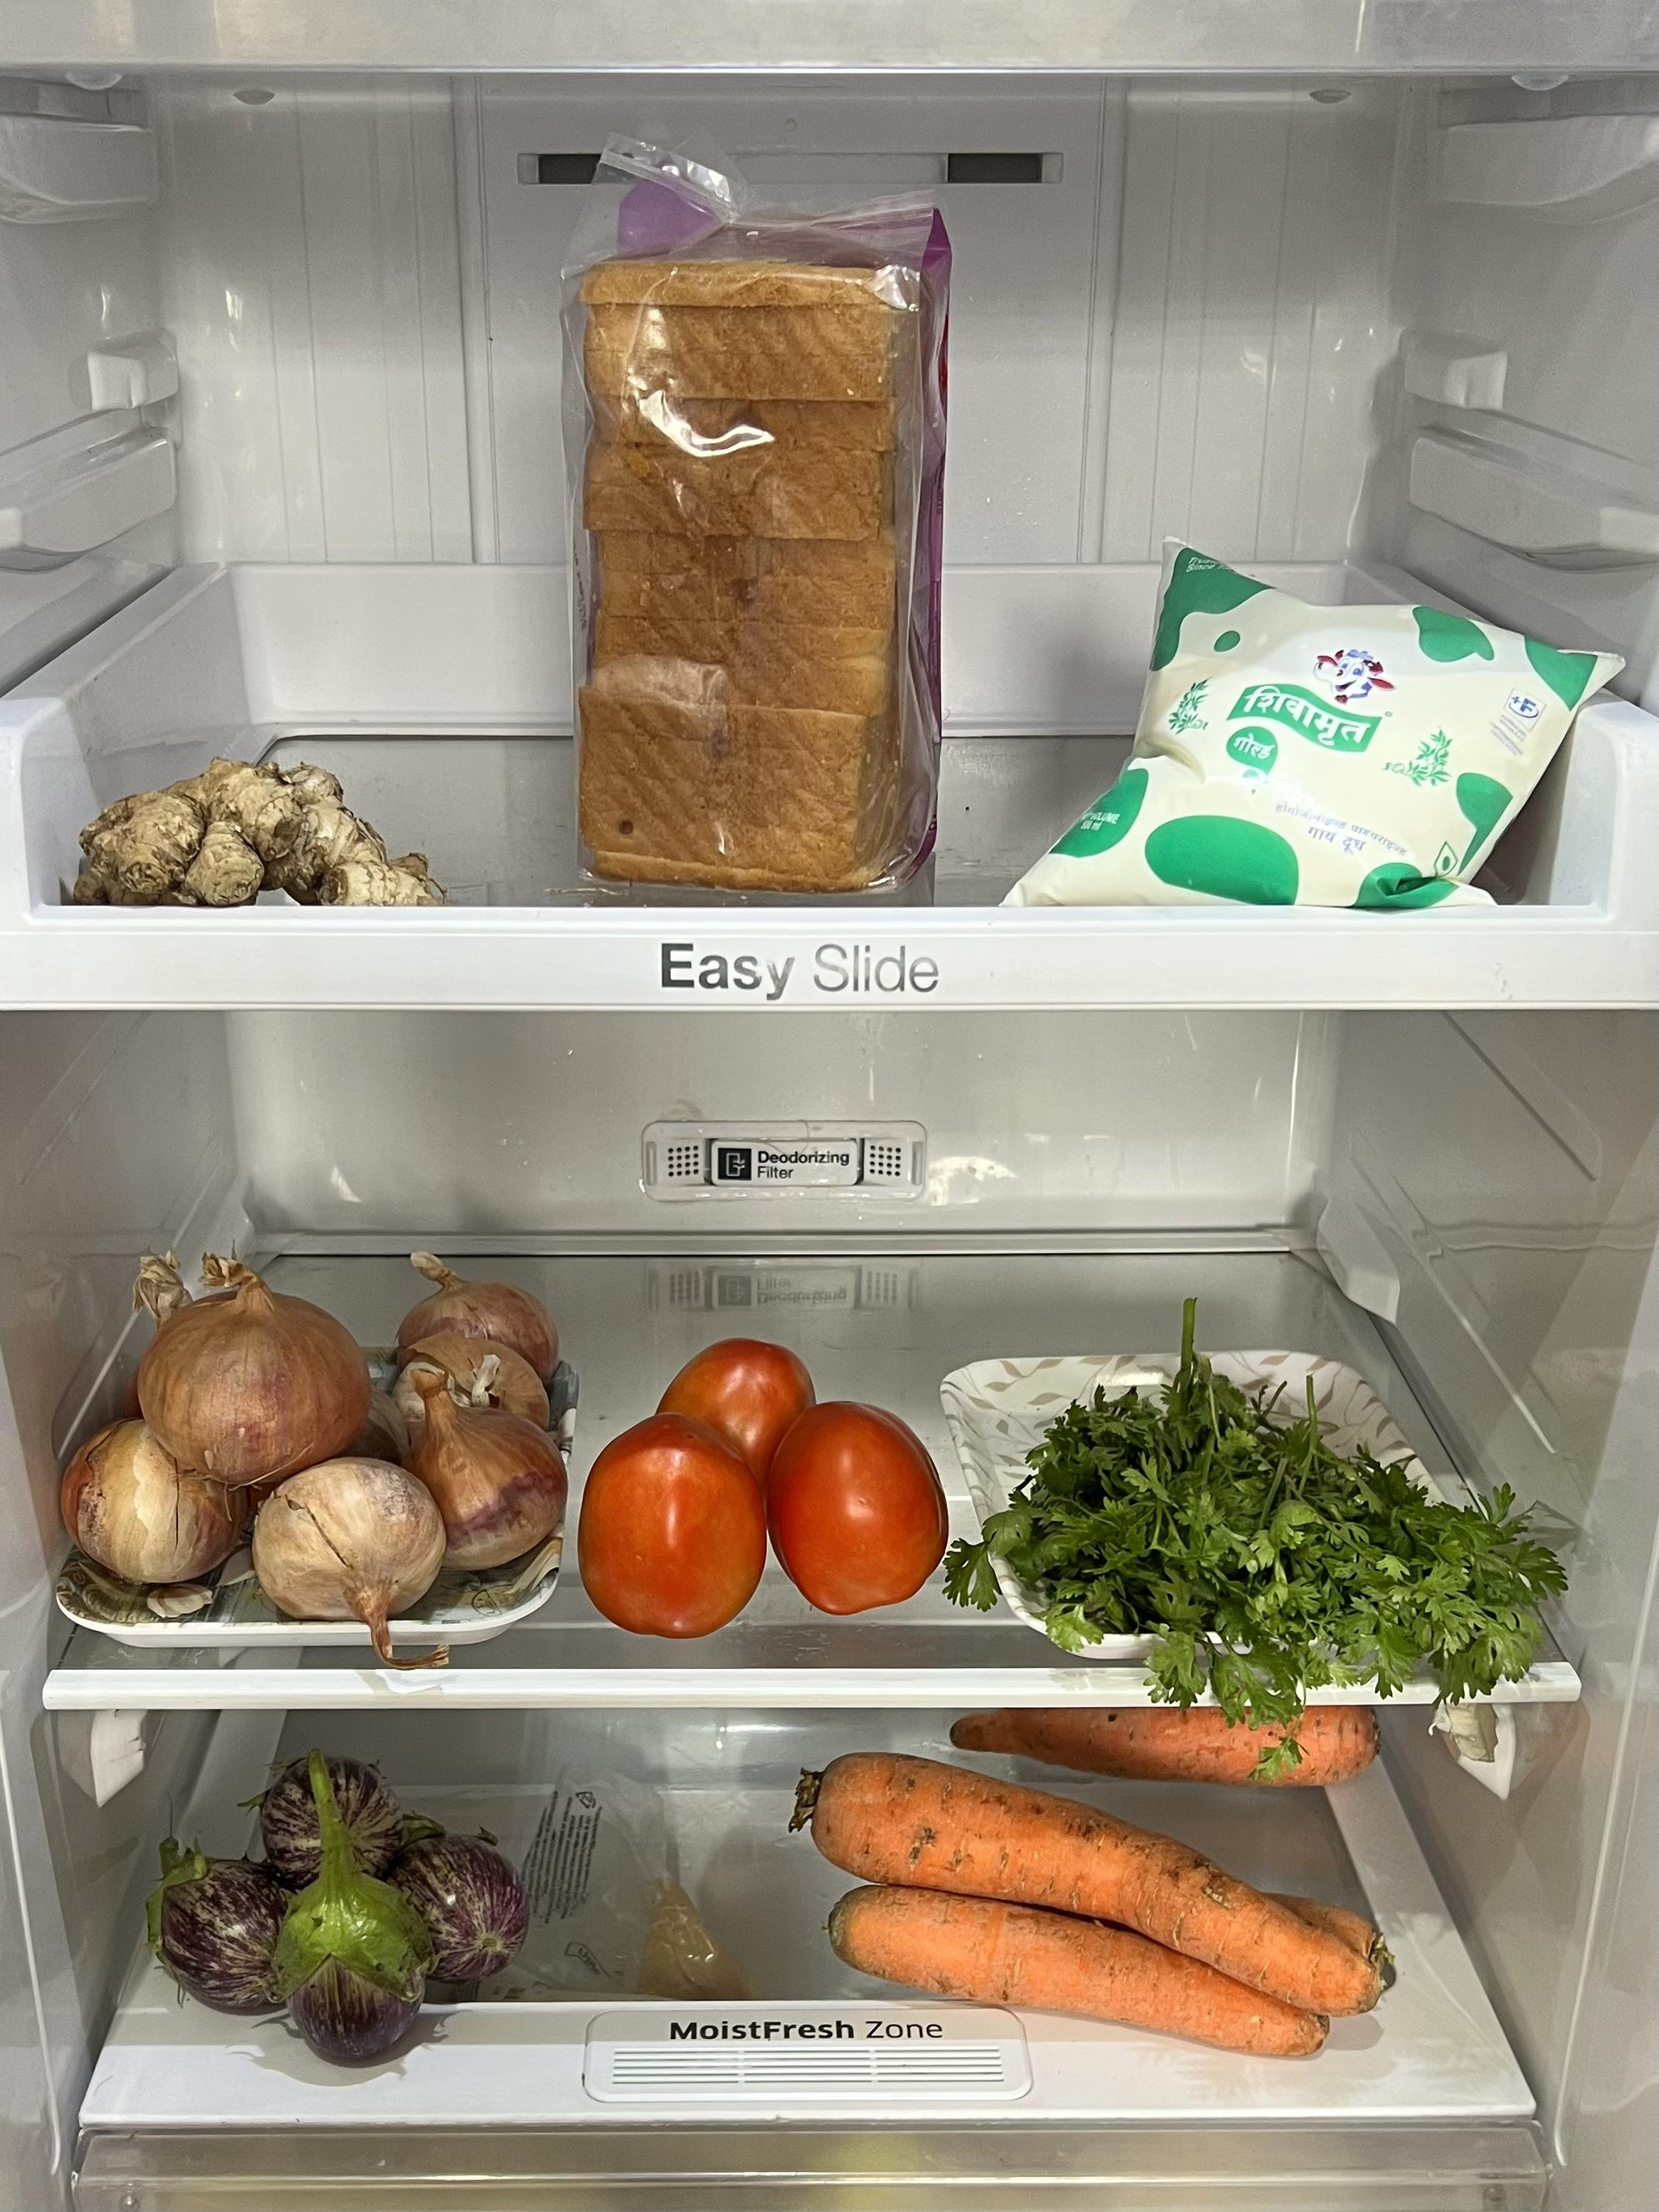bread: (516, 174, 955, 894)
bringal: (153, 1749, 540, 2052)
carrots: (782, 1707, 1434, 2062)
coriander: (990, 1372, 1551, 1710)
milk: (1035, 529, 1607, 902)
onion: (52, 1251, 572, 1625)
tomato: (584, 1339, 943, 1637)
